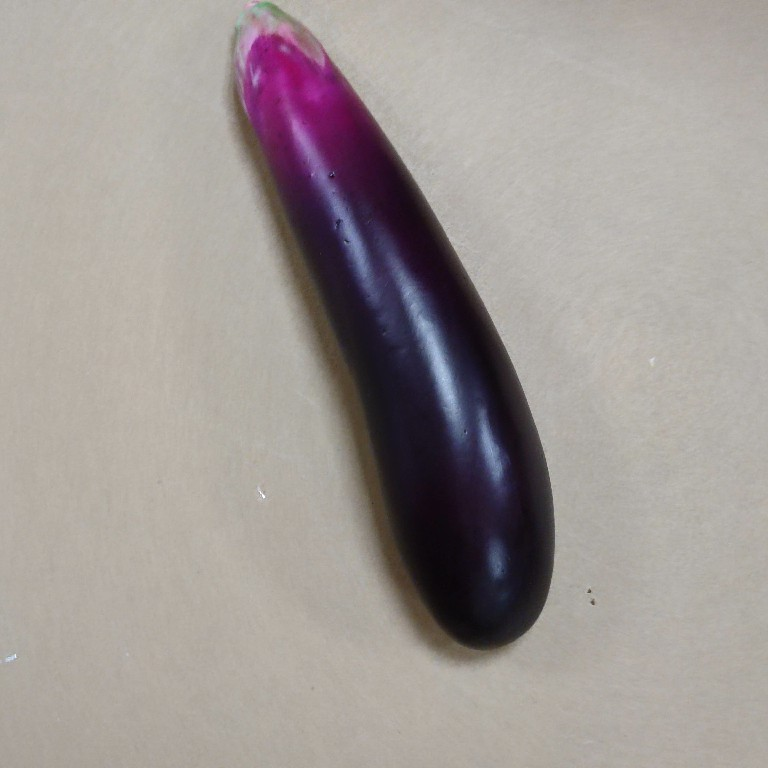fruit_eggplant: (220, 1, 561, 655)
